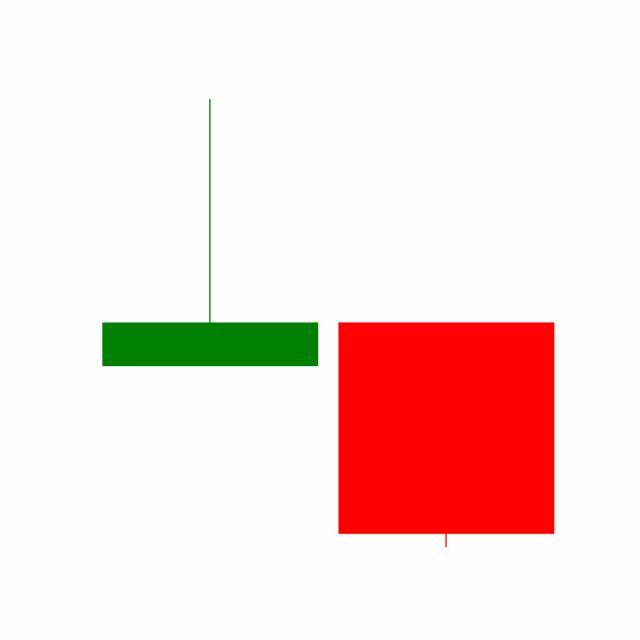Marubozu: (327, 320, 565, 550)
